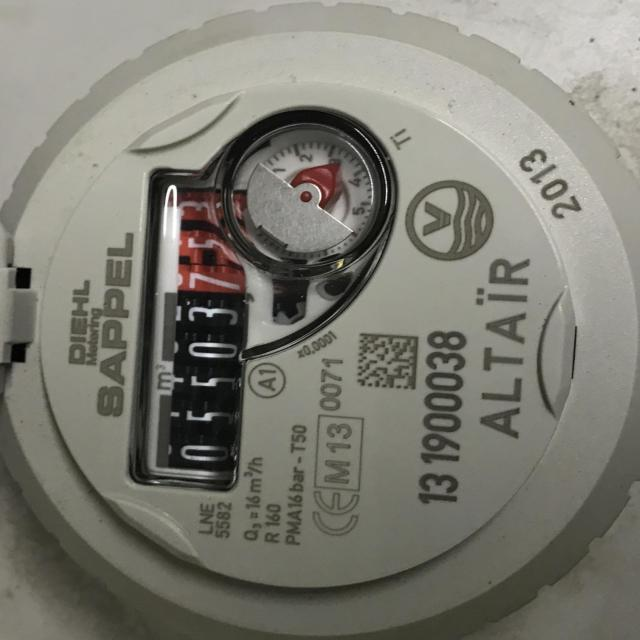gaz_meter: (39, 81, 572, 591)
indication: (150, 176, 243, 482)
